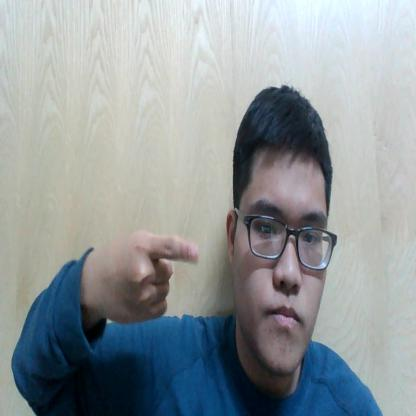left: (102, 222, 204, 336)
